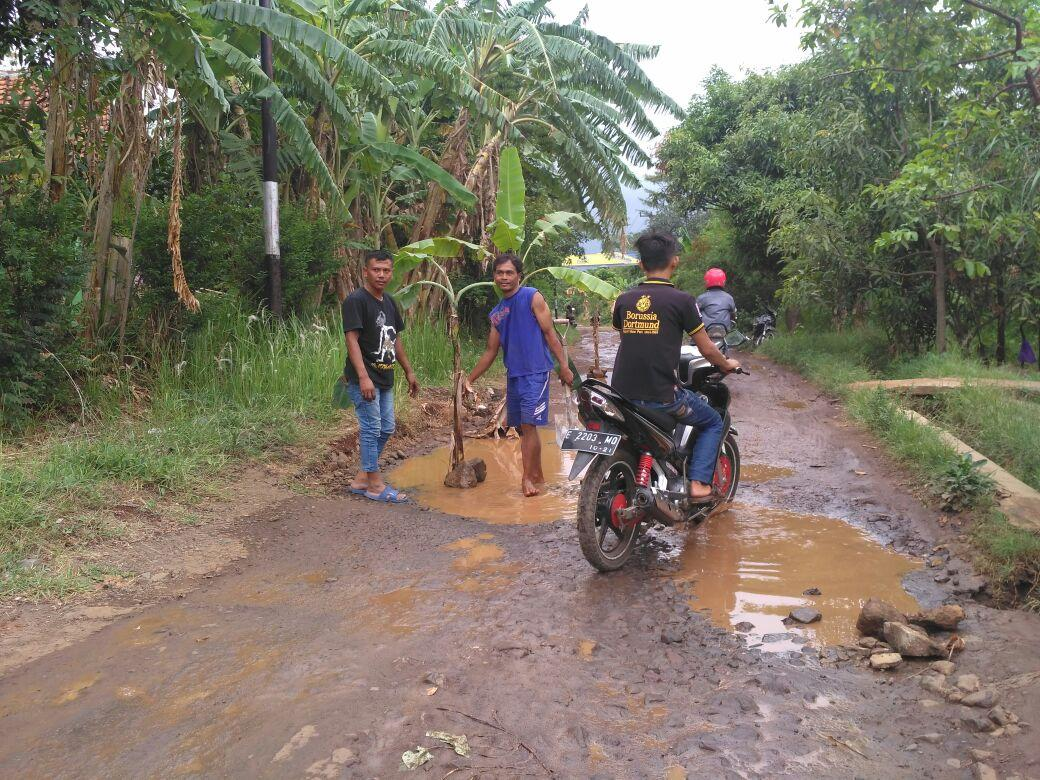Pothole: (653, 456, 974, 671), (376, 368, 605, 539)
